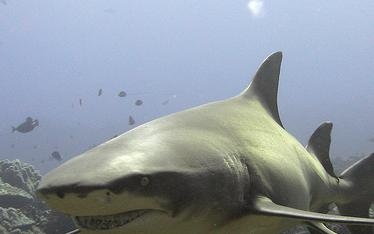Shark -Selachimorpha-: (32, 49, 374, 234)
